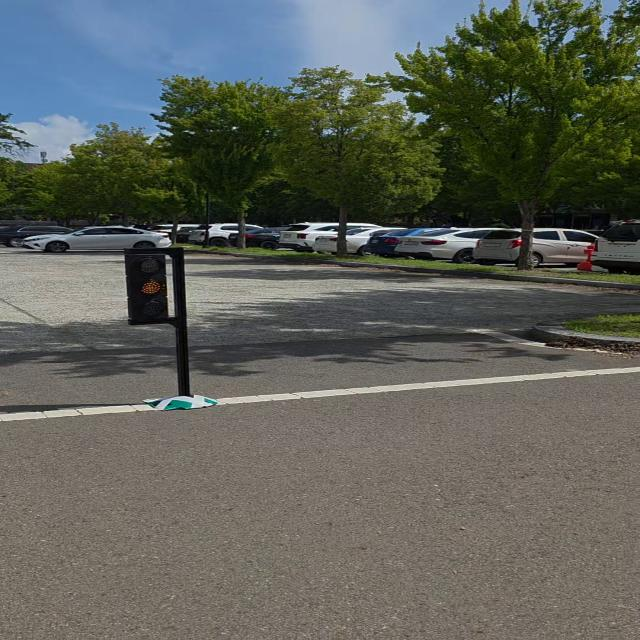yellow: (121, 247, 175, 325)
